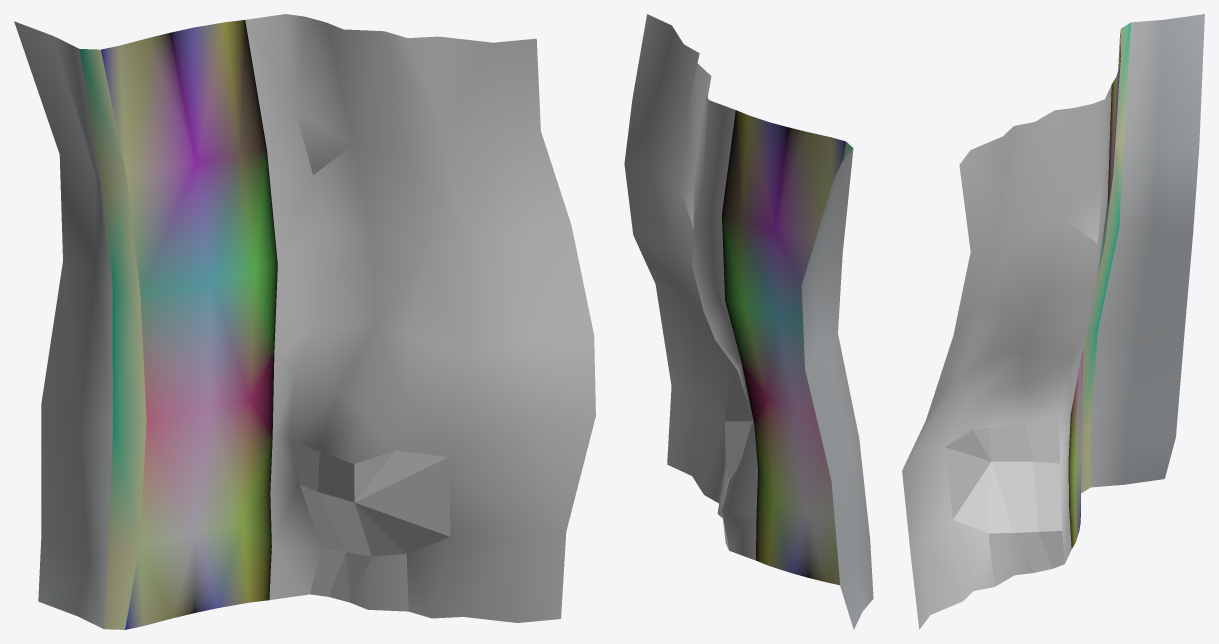
File: Volcano_RampStraightB_lod2.glb
The picture shows the model from 3 angles, left to right: view 1: azimuth 30°, elevation 25°; view 2: azimuth 150°, elevation 25°; view 3: azimuth 270°, elevation 25°; orthographic projection. The views are drawn at different scales.
Parts seen in each view (by area): view 1: MeshNode_0, MeshNode_1; view 2: MeshNode_0, MeshNode_1; view 3: MeshNode_0, MeshNode_1.
Part boxes in pixels (x1,y1,x2,y2): MeshNode_0: (14, 14, 595, 628); MeshNode_1: (79, 20, 277, 629); MeshNode_0: (624, 14, 873, 629); MeshNode_1: (722, 110, 853, 585); MeshNode_0: (902, 14, 1204, 629); MeshNode_1: (1068, 22, 1130, 548).
Bounding box in the file's own units: 97.93 × 128 × 75.55.
